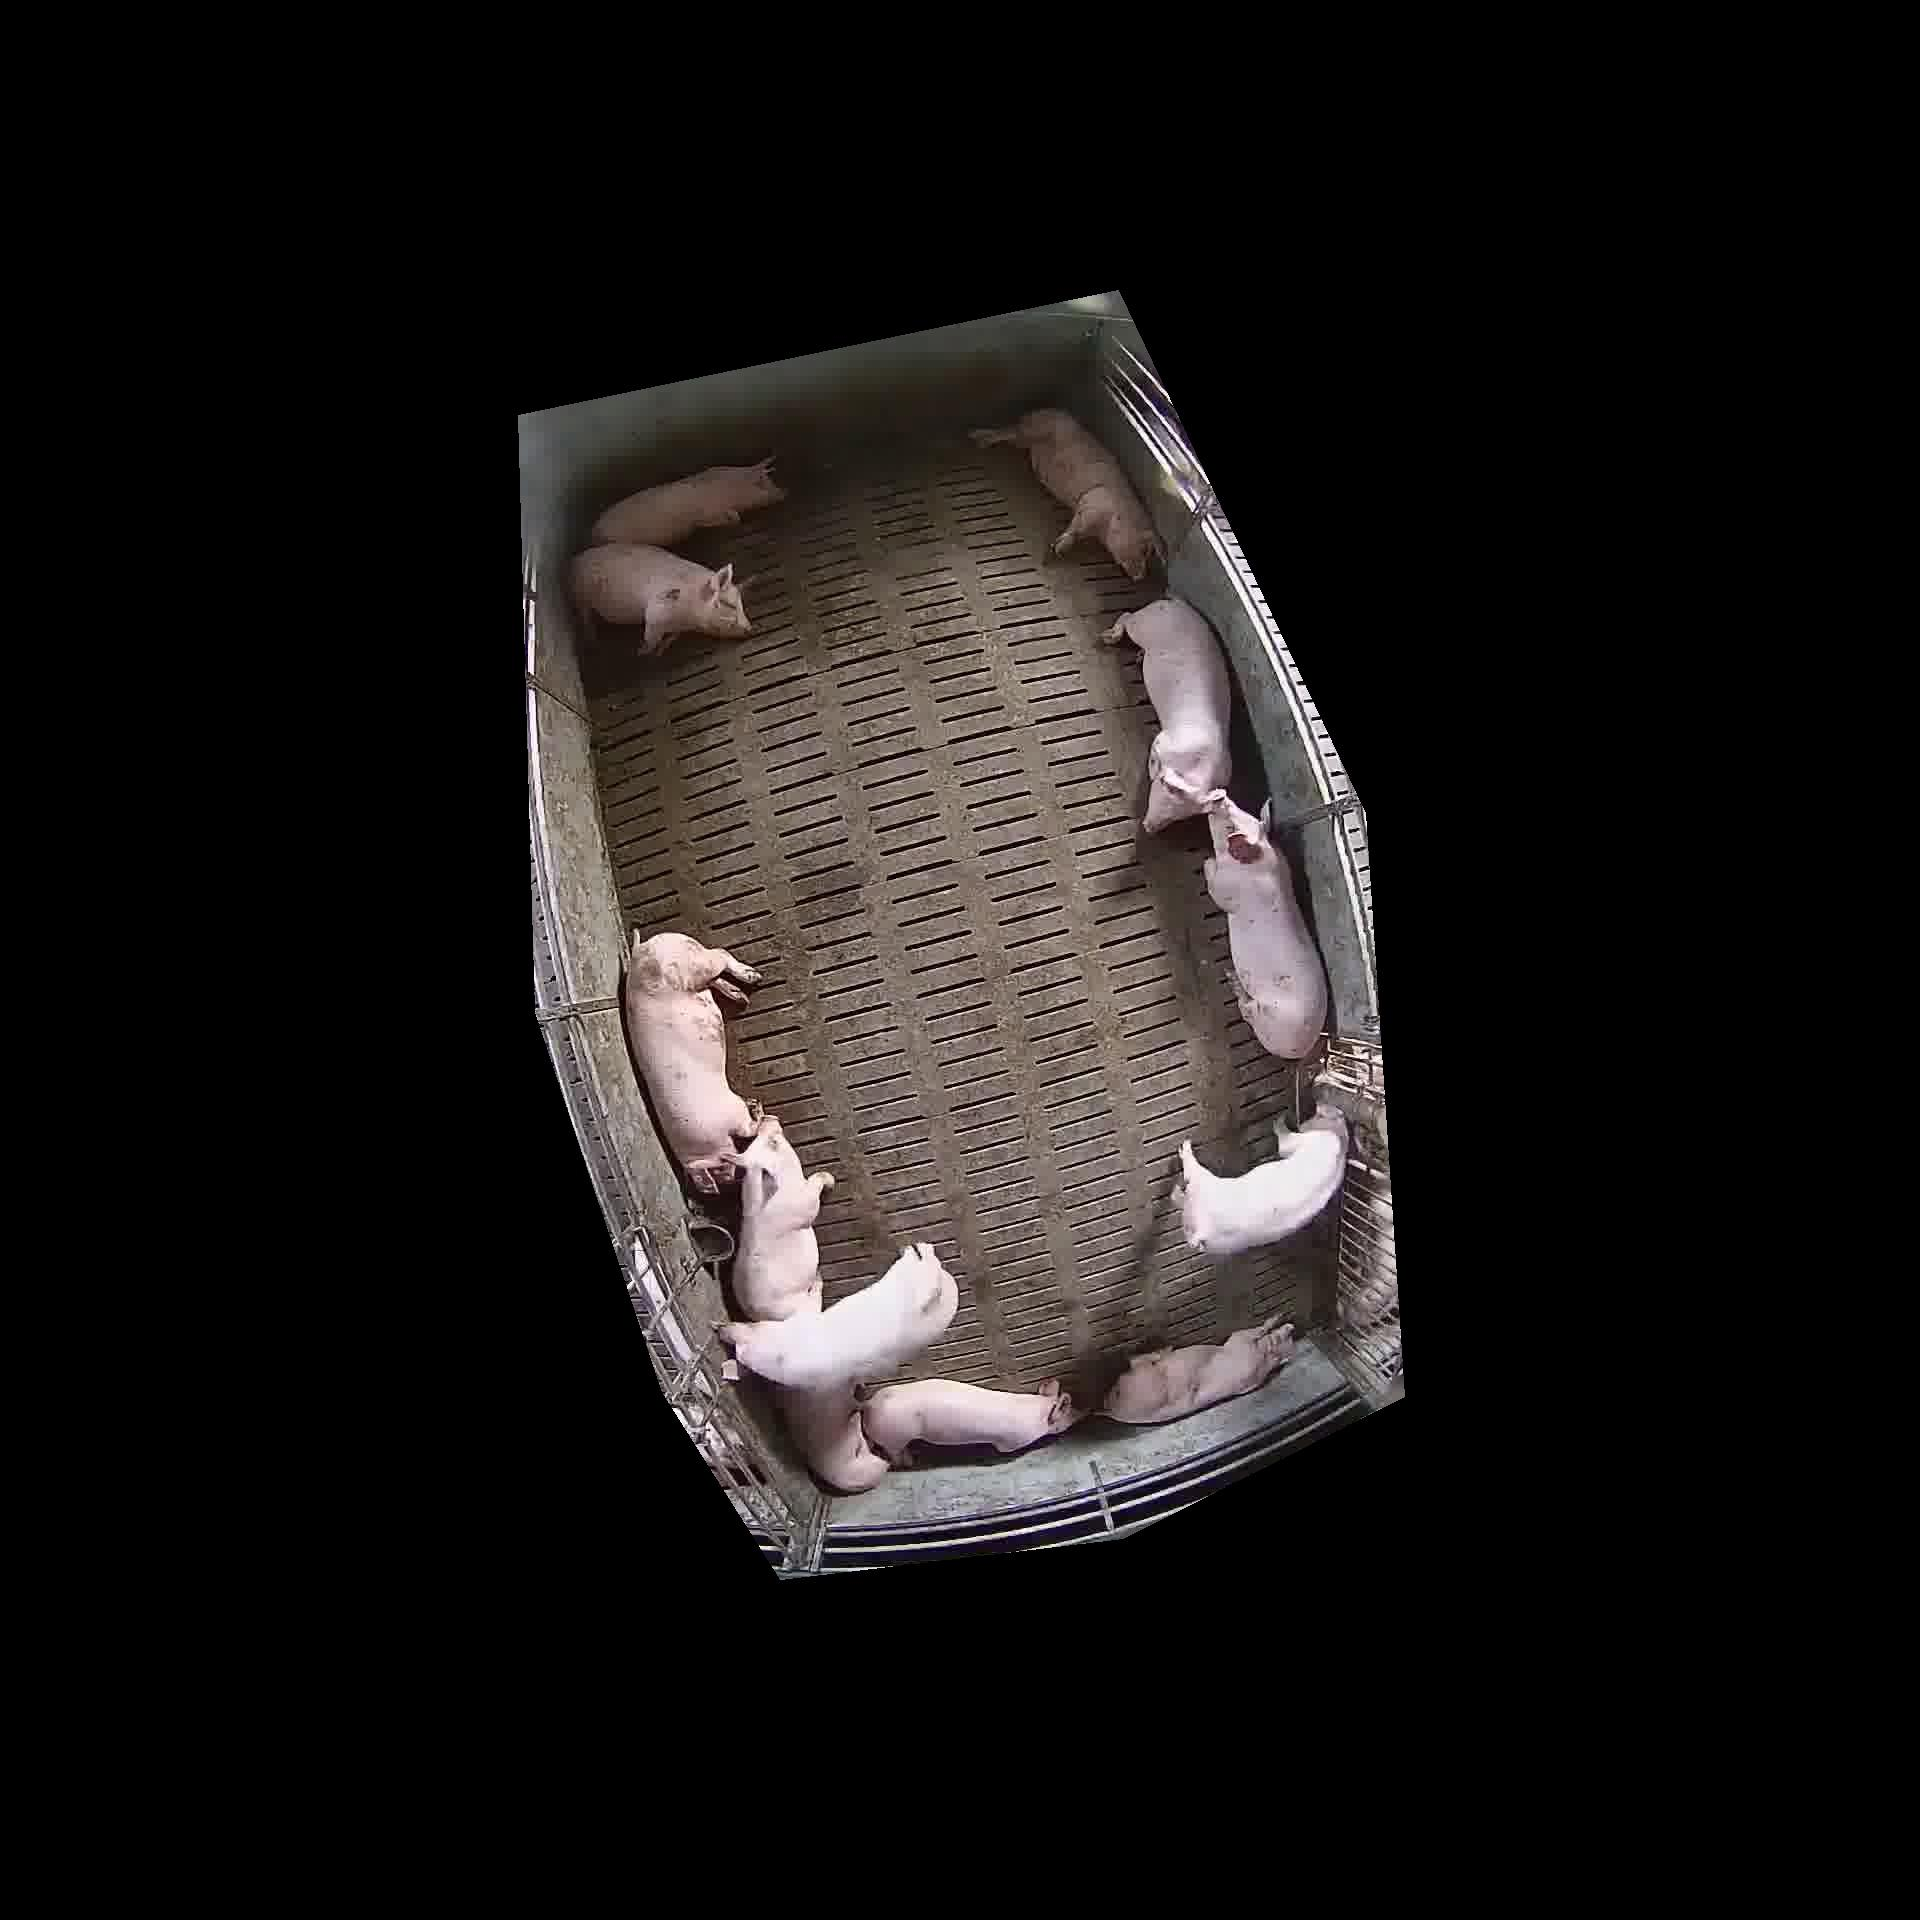pig: (721, 1241, 958, 1391), (624, 934, 760, 1194), (1204, 791, 1327, 1058), (971, 408, 1159, 578), (1102, 598, 1231, 832), (1180, 1106, 1347, 1255), (731, 1116, 833, 1320), (1104, 1319, 1294, 1422), (571, 543, 751, 652), (862, 1378, 1078, 1461), (593, 457, 784, 547), (777, 1378, 890, 1493)
